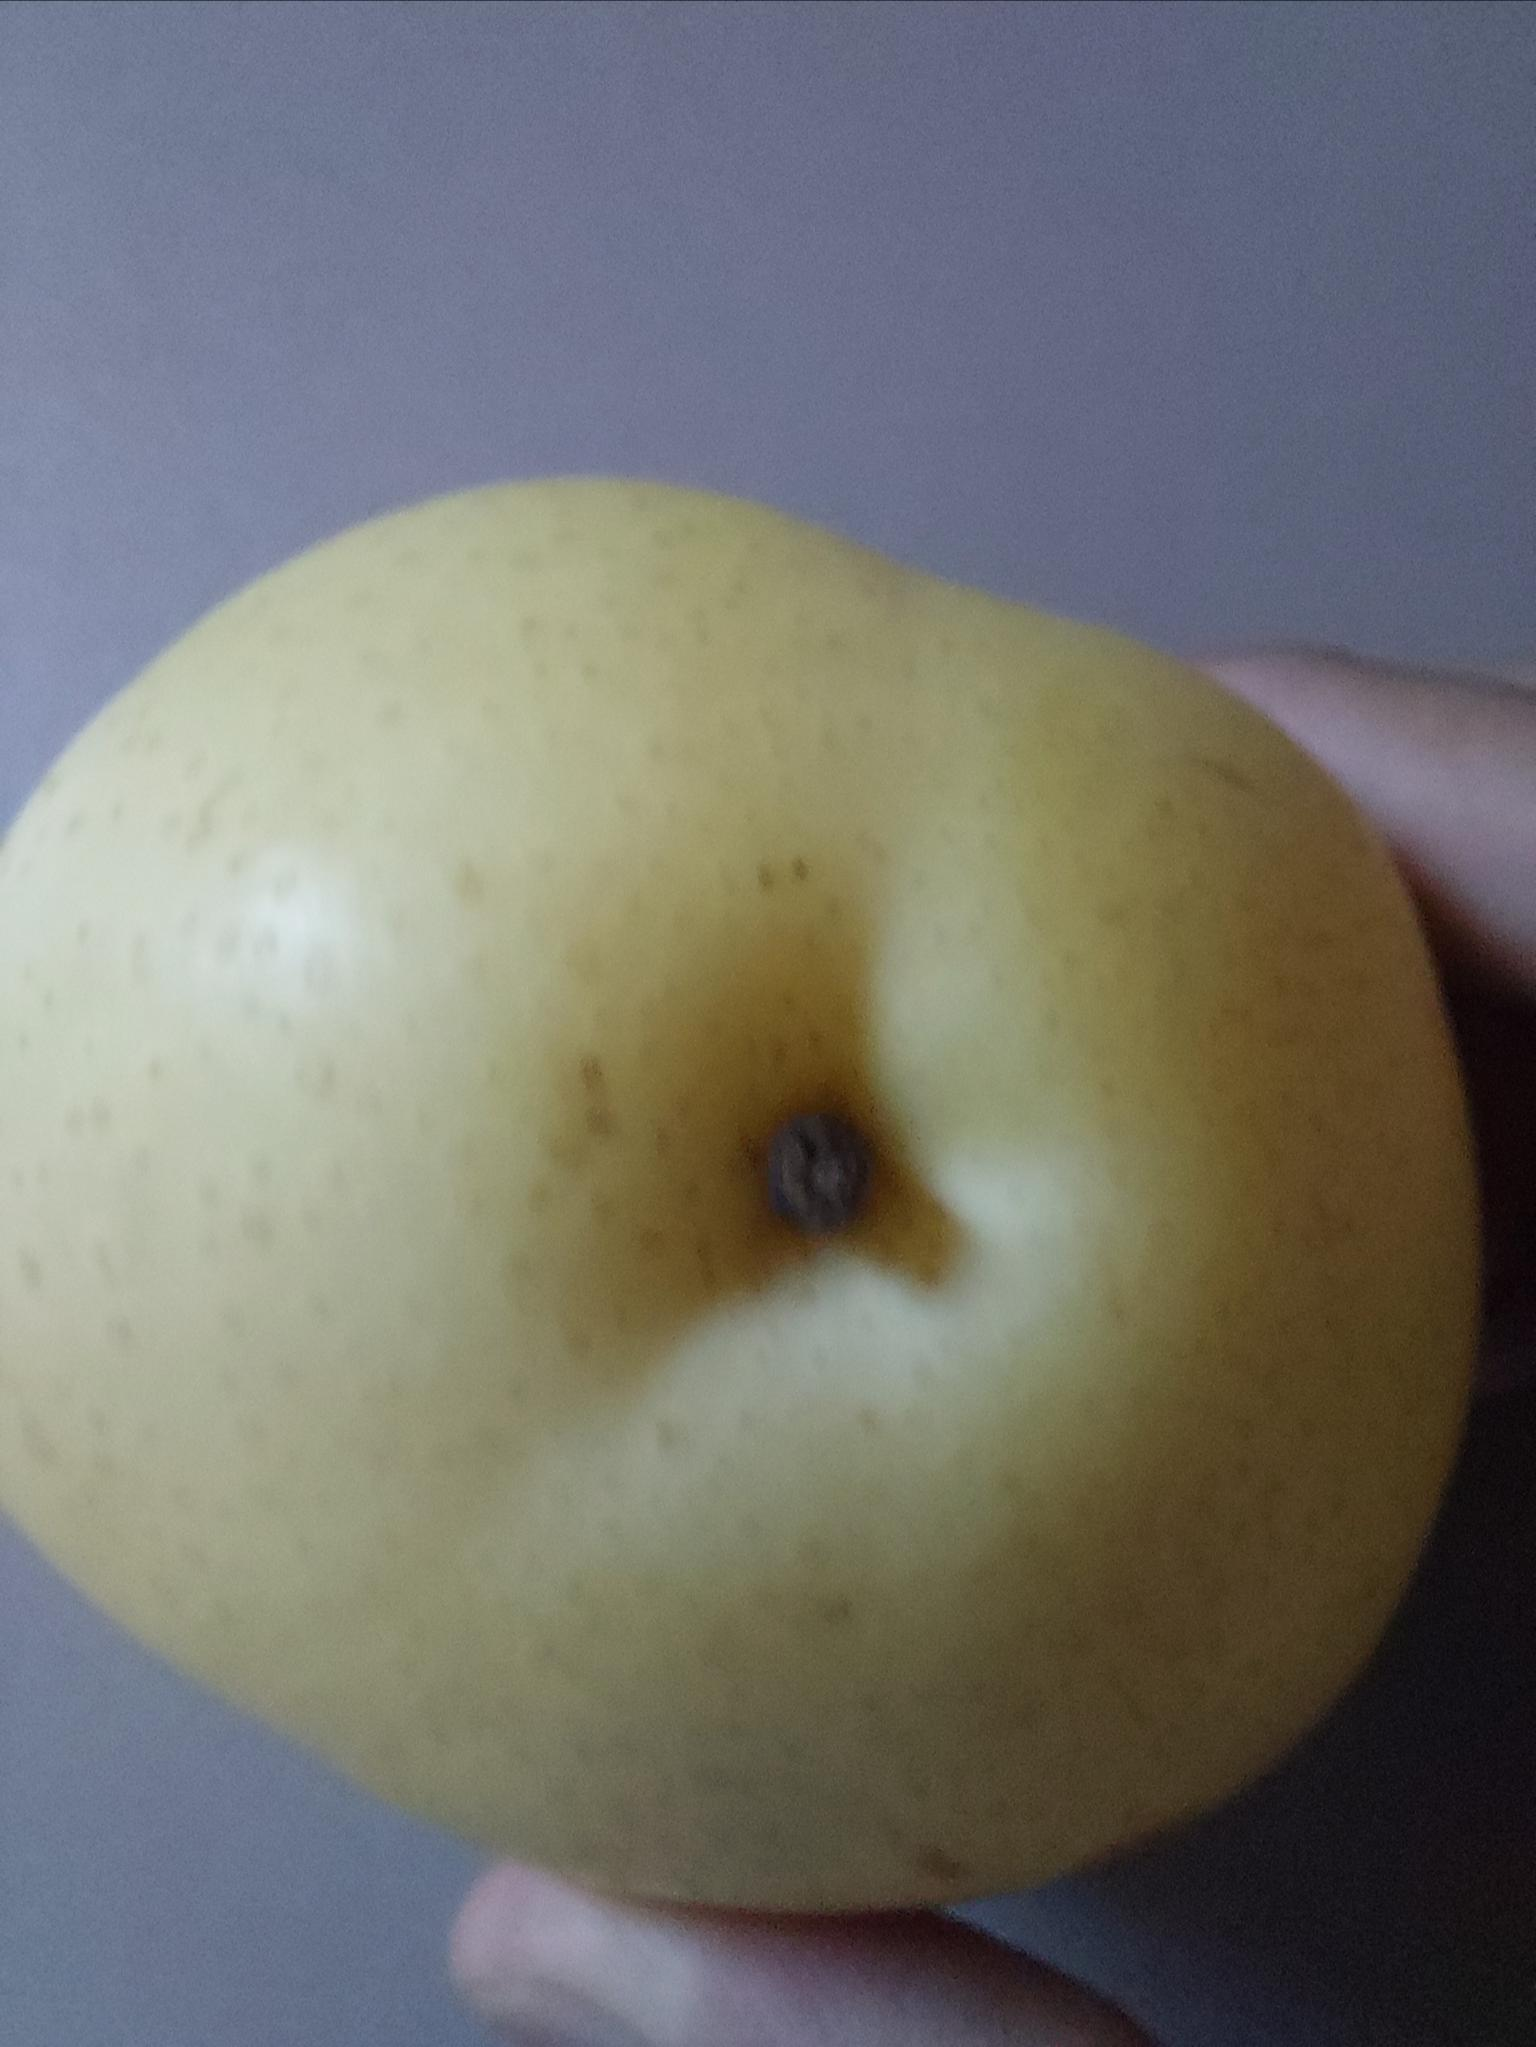Good Pear: (0, 469, 1480, 1891)
